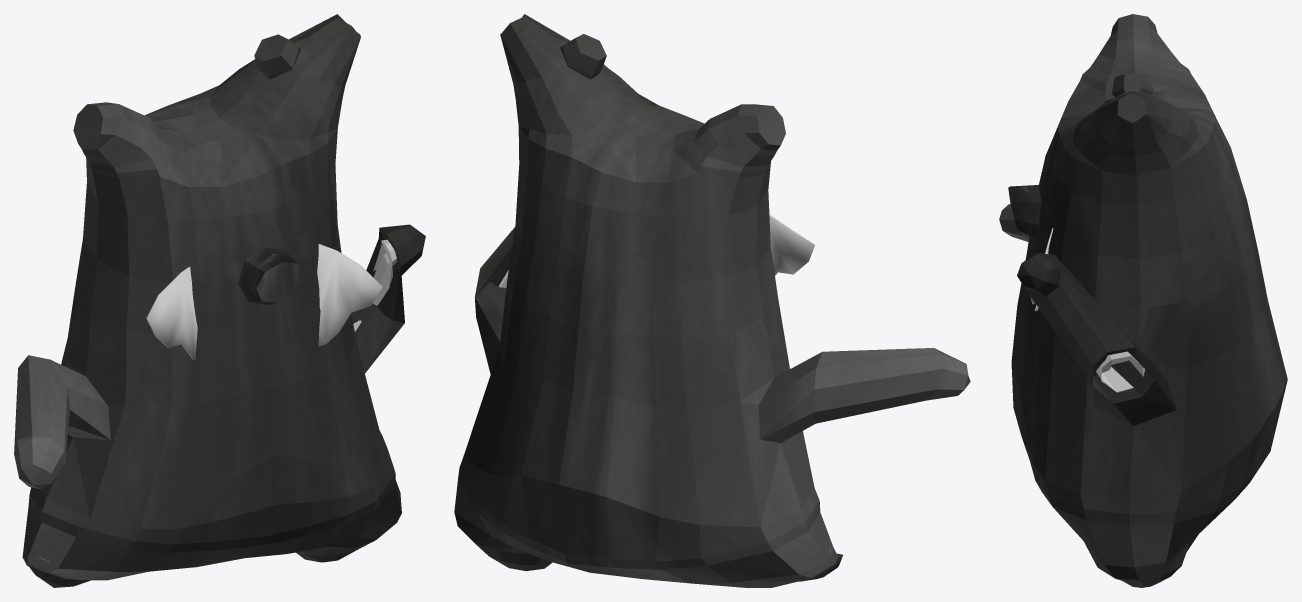
The model's file is frame_0007.obj.
The picture shows the model from 3 angles, left to right: view 1: azimuth 30°, elevation 25°; view 2: azimuth 150°, elevation 25°; view 3: azimuth 270°, elevation 25°; orthographic projection. The views are drawn at different scales.
Visible parts, largest first — view 1: korok, leaf, nose; view 2: korok, leaf; view 3: korok, nose.
Part boxes in pixels (box(x1,y1,x2,y2)): korok: box(14, 14, 425, 587); leaf: box(146, 243, 382, 359); nose: box(238, 247, 302, 304); korok: box(454, 14, 970, 587); leaf: box(769, 214, 814, 275); korok: box(999, 14, 1287, 587); nose: box(1008, 185, 1041, 237).
Bounding box in the file's own units: 1.96 × 2.31 × 1.22.
